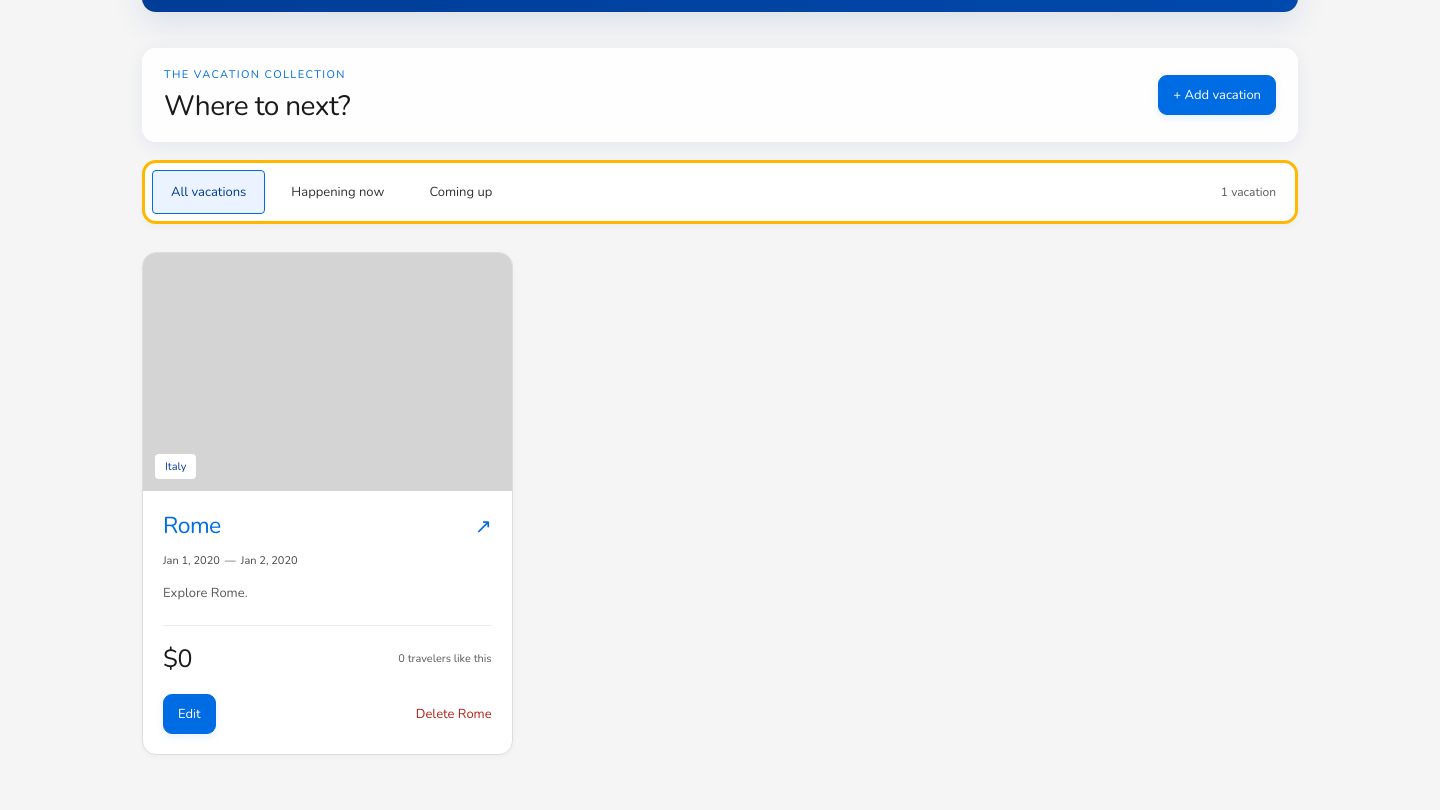
Test: cancelled deletion leaves the record untouched; confirmation deletes and refreshes
(page scrolled)
Click the button "Delete Rome" at x=454, y=714, box x1=416 y1=698 x2=492 y2=730
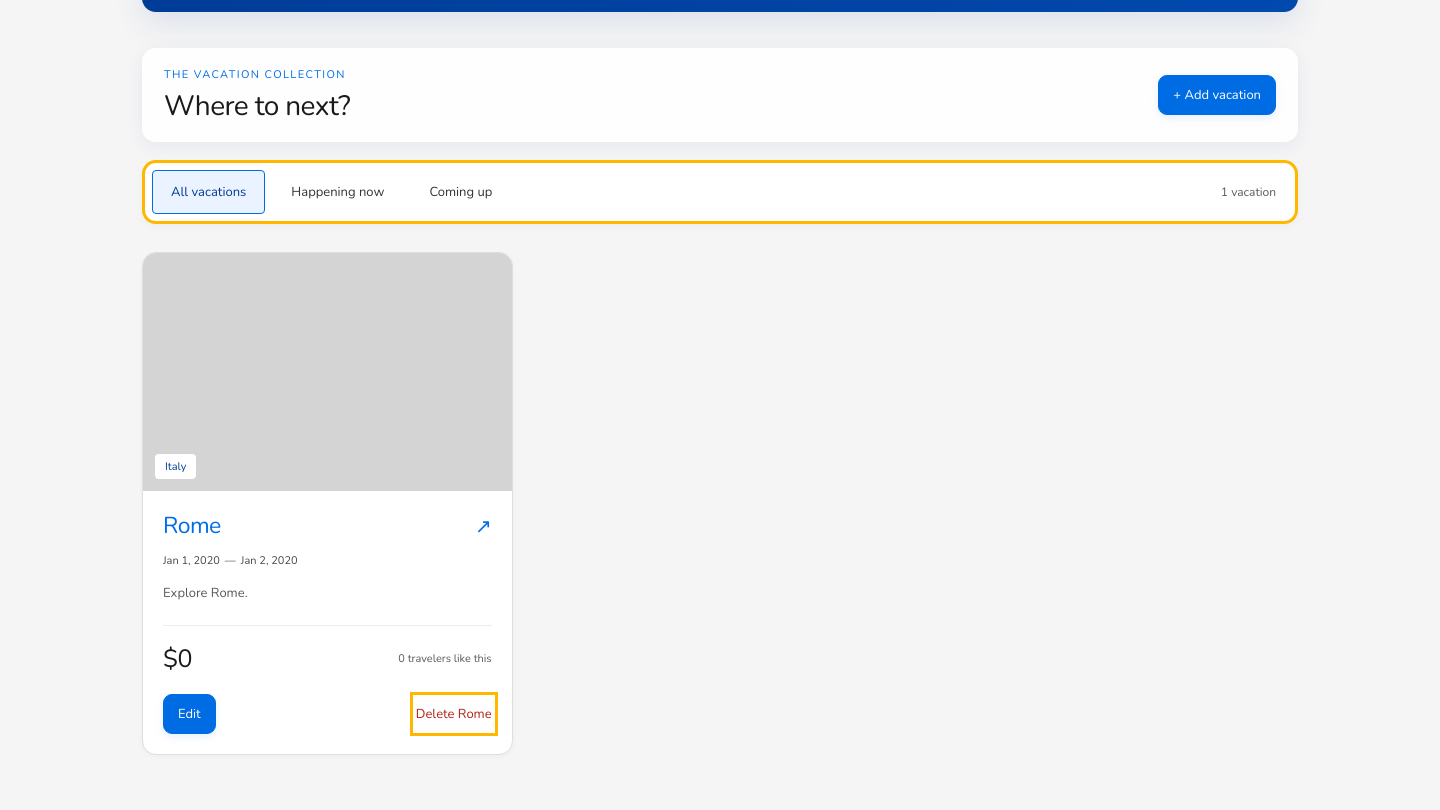
Expected: the heading "Rome" is shown, x1=163 y1=512 x2=221 y2=541
Click the button "Delete Rome" at x=454, y=714, box x1=416 y1=698 x2=492 y2=730
(page scrolled)
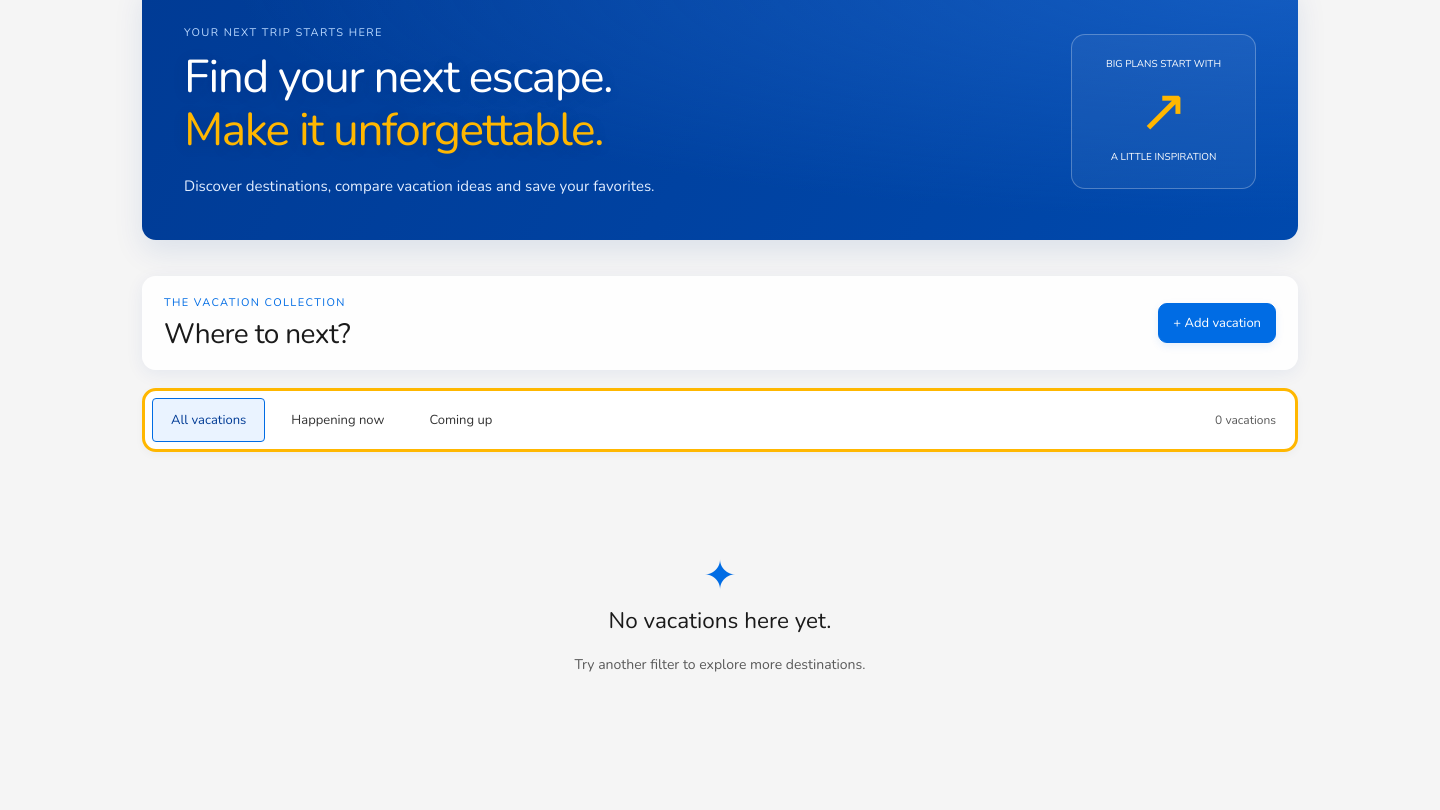
Expected: the heading "No vacations here yet." is shown, x1=609 y1=605 x2=831 y2=636
